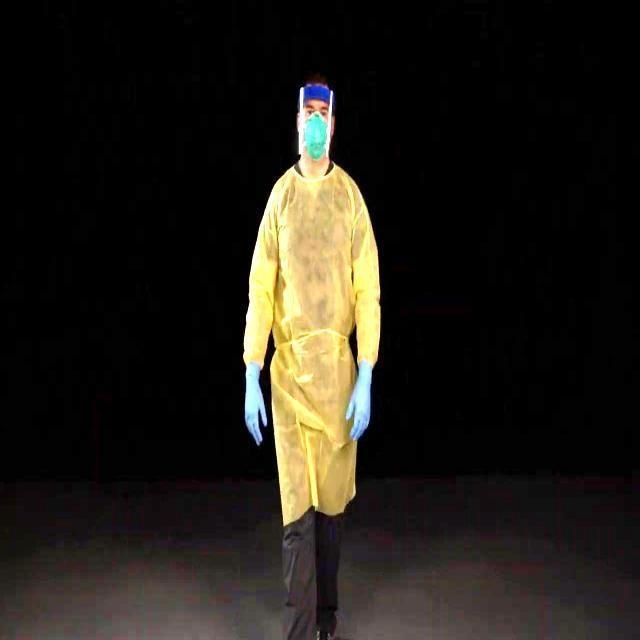mask: (300, 115, 330, 151)
no_gloves: (283, 68, 352, 105)
